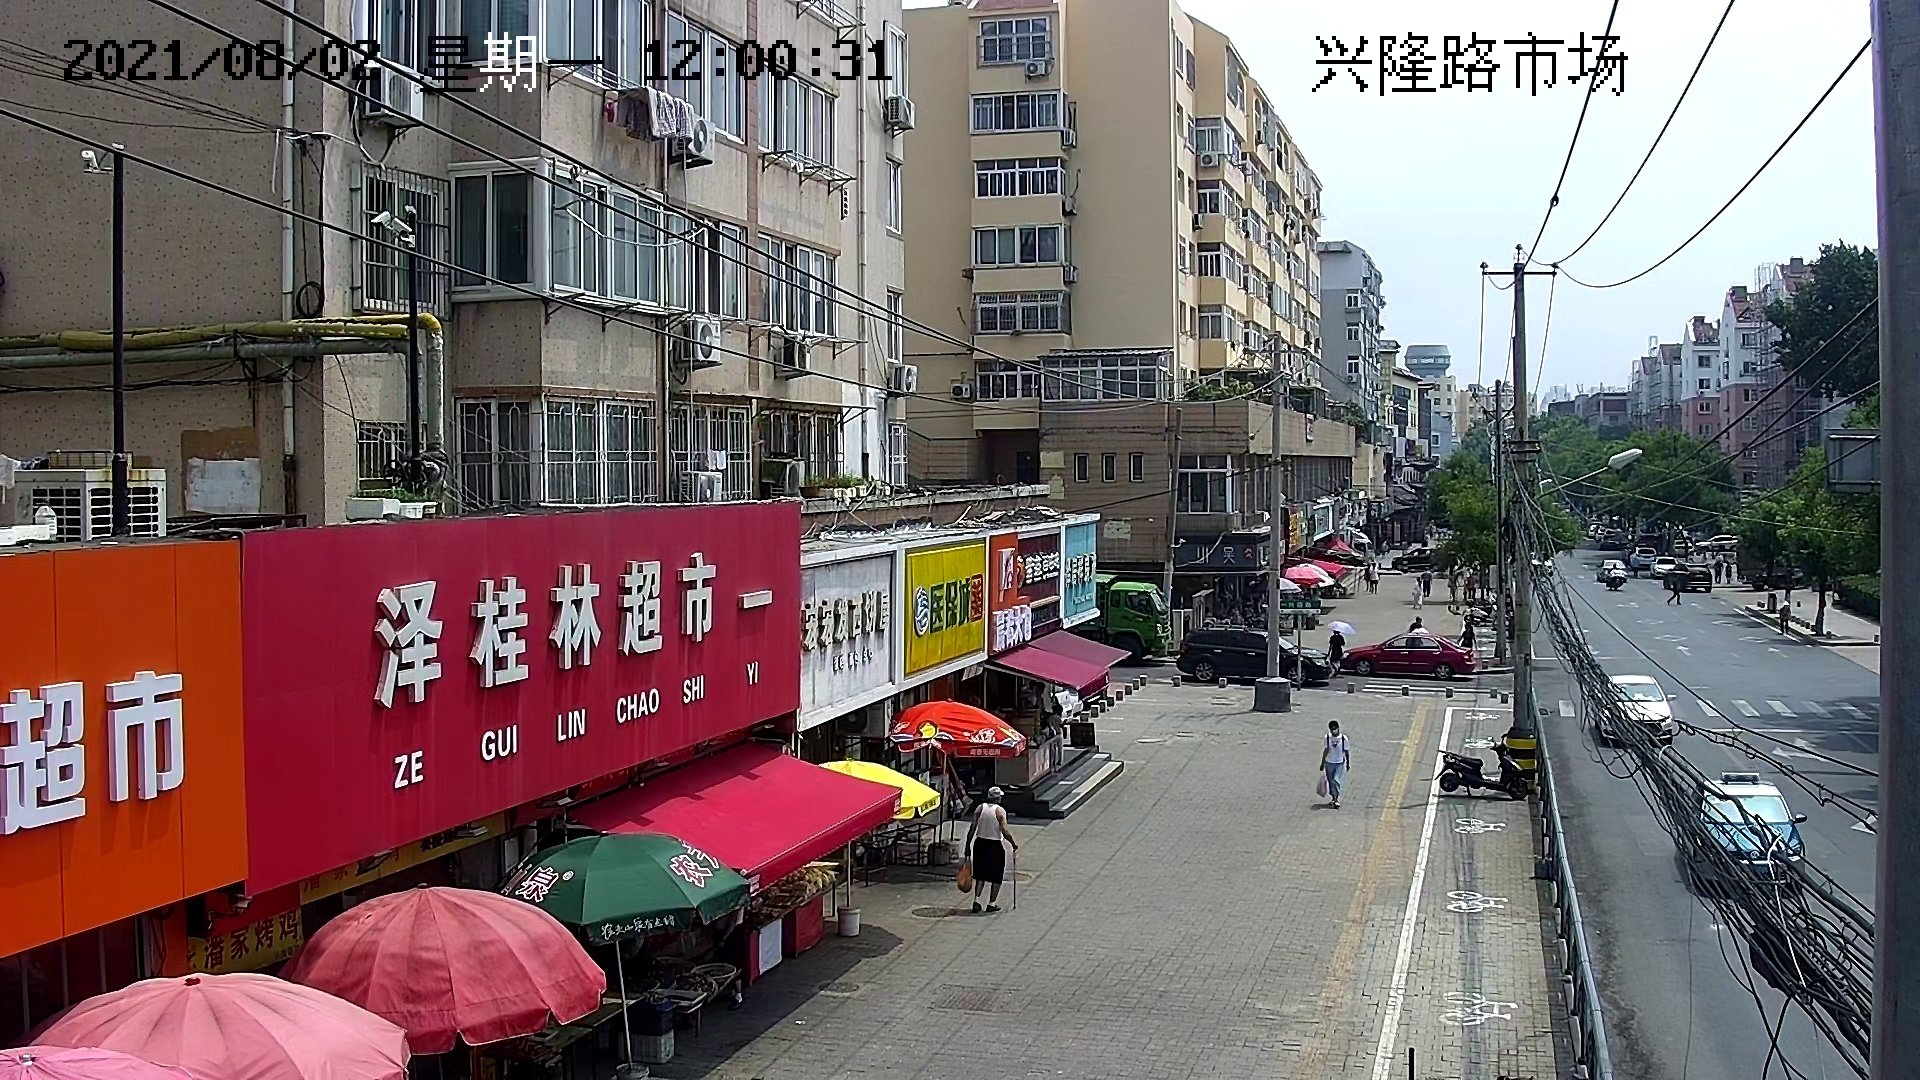umbrella: (280, 877, 611, 1054), (32, 969, 411, 1077), (492, 828, 752, 945), (889, 696, 1027, 760), (812, 757, 942, 820), (1300, 562, 1336, 588), (1280, 564, 1323, 585), (1279, 578, 1304, 592)
